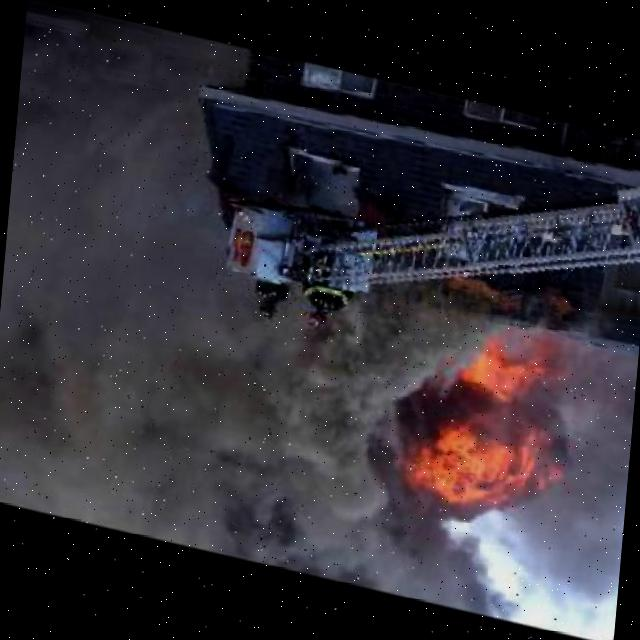fire: (393, 320, 579, 543)
